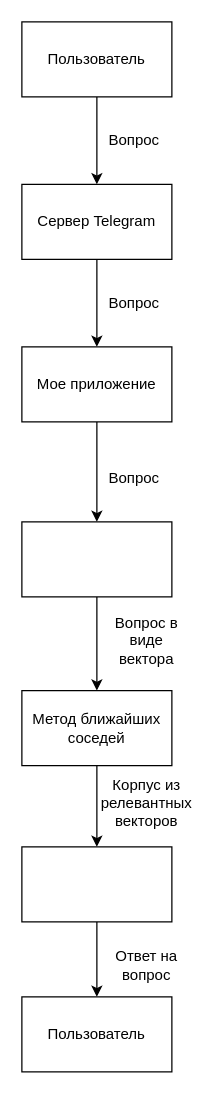
Image size: 214x1094. Some labels were removed from this diagram. Each missing label, with the centre of its shape:
"Векторизатор" goes at (x=96, y=559).
"Генератор ответа" goes at (x=96, y=884).
